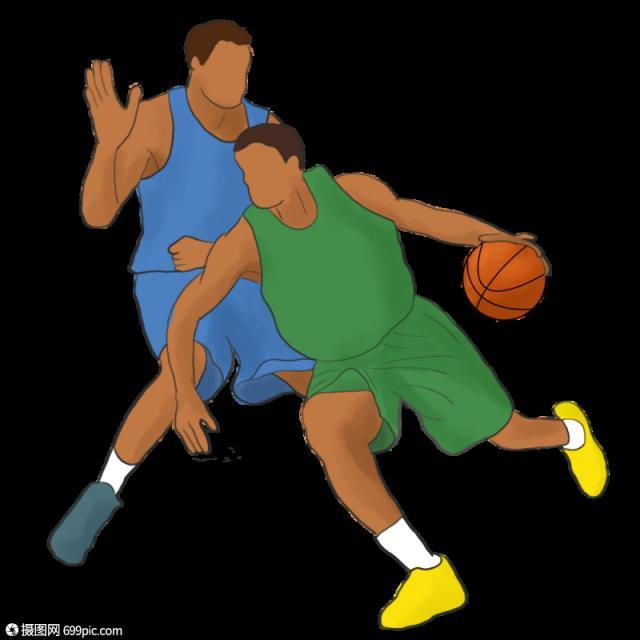rim: (459, 238, 548, 326)
